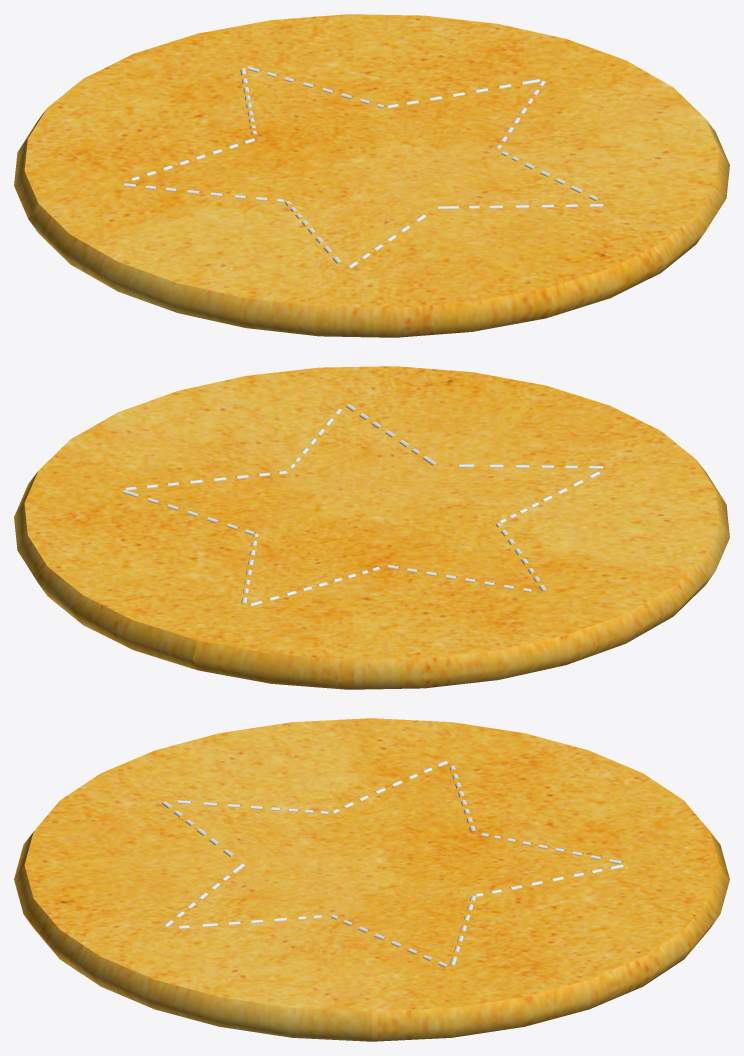
File: Keo_Sao 1.fbx
The picture shows the model from 3 angles, top to bottom: view 1: azimuth 30°, elevation 25°; view 2: azimuth 150°, elevation 25°; view 3: azimuth 270°, elevation 25°; orthographic projection.
Visible parts, largest first — view 1: BanhSao, Banh_Sao001, SaoNetDut; view 2: BanhSao, Banh_Sao001, SaoNetDut; view 3: BanhSao, Banh_Sao001, SaoNetDut.
Boxes of the visible parts, x1,y1,x2,y2 form: BanhSao: (14, 14, 729, 318); Banh_Sao001: (28, 184, 551, 337); SaoNetDut: (124, 66, 602, 268); BanhSao: (14, 366, 633, 689); Banh_Sao001: (437, 385, 729, 643); SaoNetDut: (122, 404, 602, 603); BanhSao: (14, 722, 729, 1041); Banh_Sao001: (14, 718, 451, 878); SaoNetDut: (162, 761, 623, 967).
Size of the model in its own units: 140 by 6.86 by 140.
2 materials, 1 textured.
